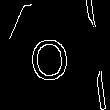O_N: (34, 27, 76, 83)
